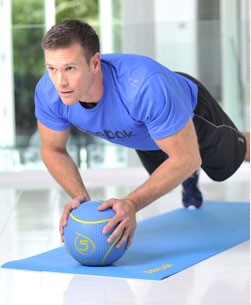blue ball: (63, 200, 130, 267)
